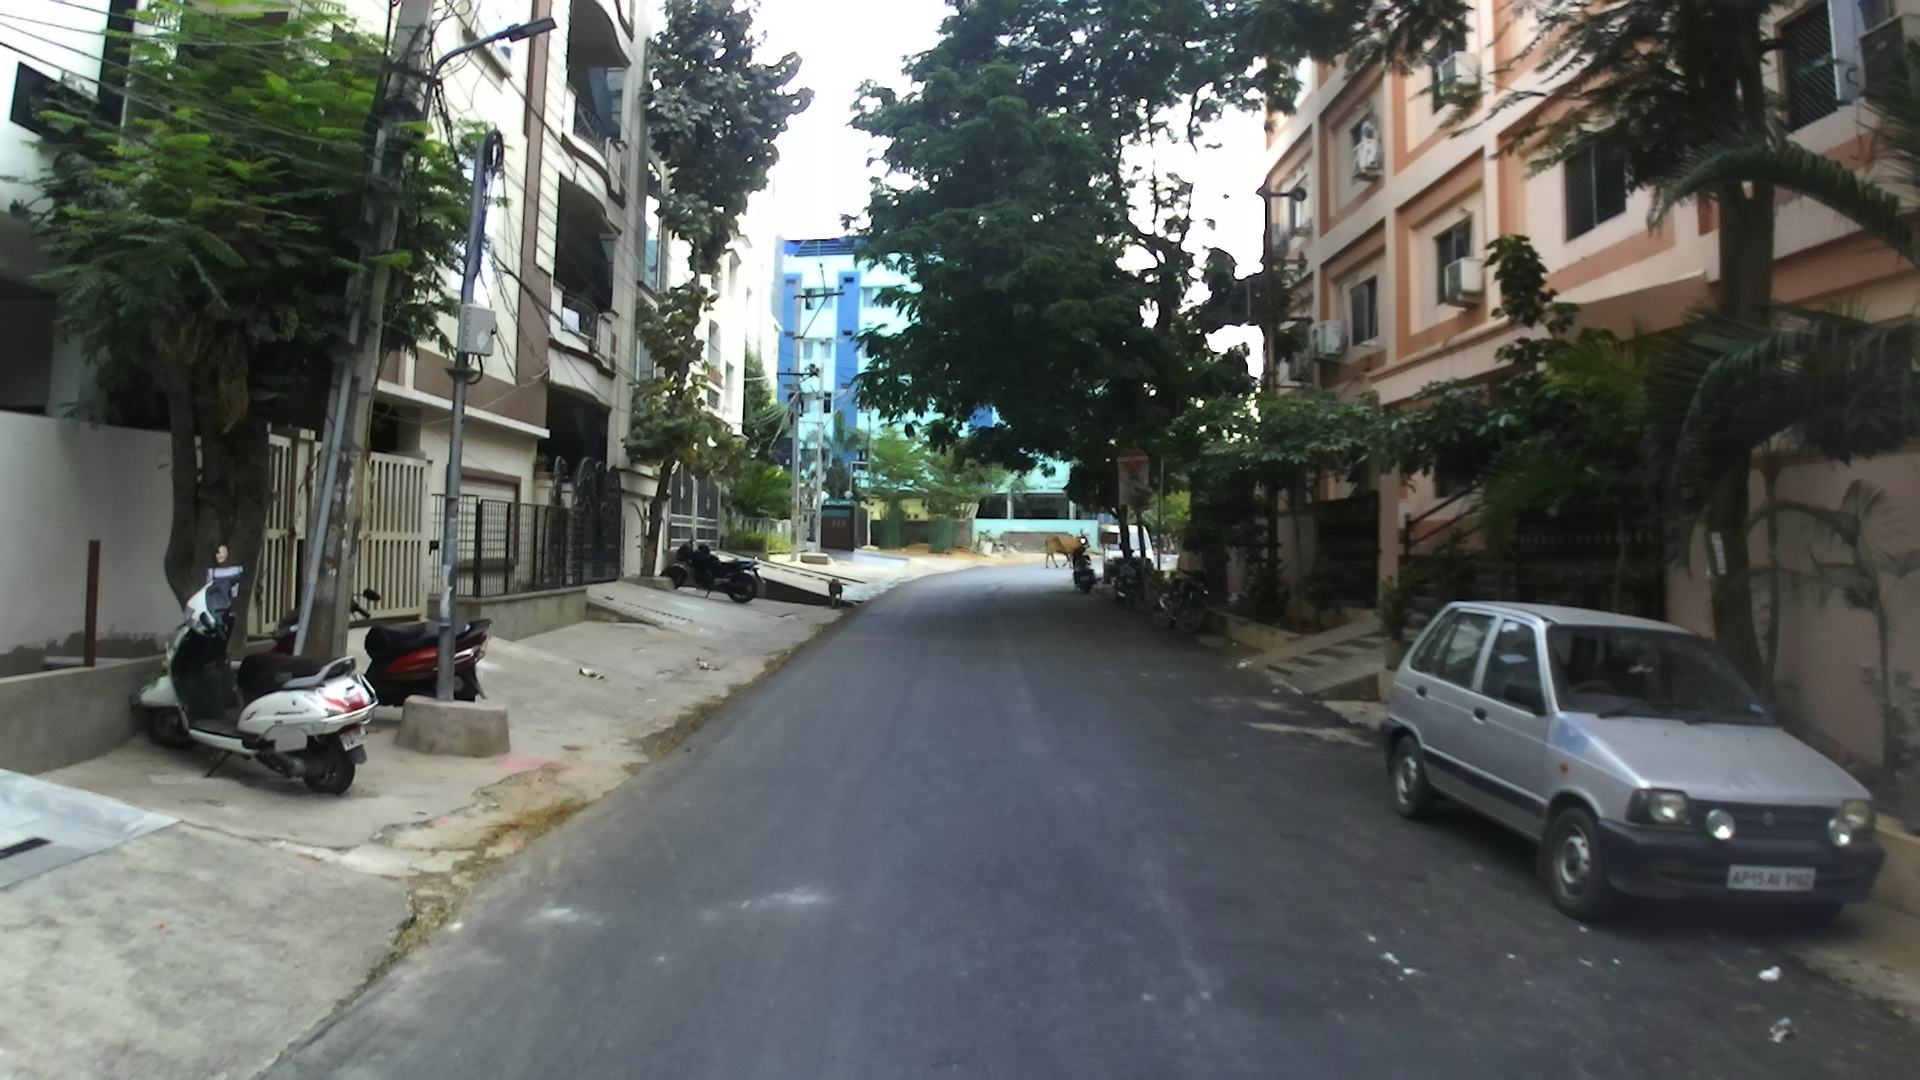vehicle: (1373, 597, 1884, 924), (146, 547, 373, 796)
